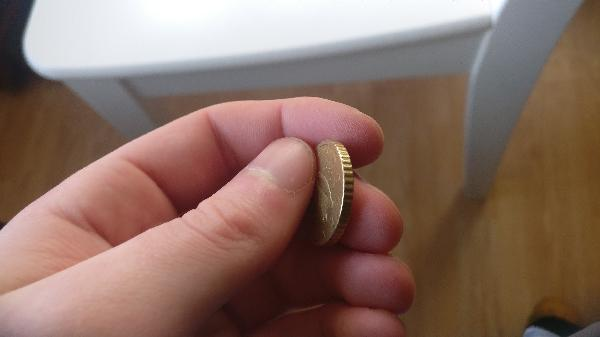Fifty Cent: (307, 141, 357, 246)
